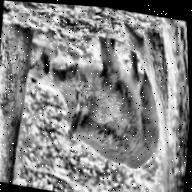boar: (38, 28, 169, 175)
